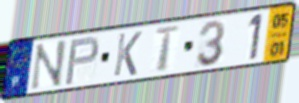1: (247, 11, 266, 63)
3: (196, 18, 228, 69)
K: (111, 30, 144, 79)
N: (28, 38, 69, 93)
P: (63, 35, 101, 88)
T: (153, 24, 183, 74)
